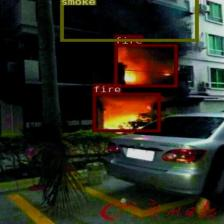fire: (92, 92, 160, 132), (114, 44, 177, 87)
smoke: (60, 0, 198, 41)
